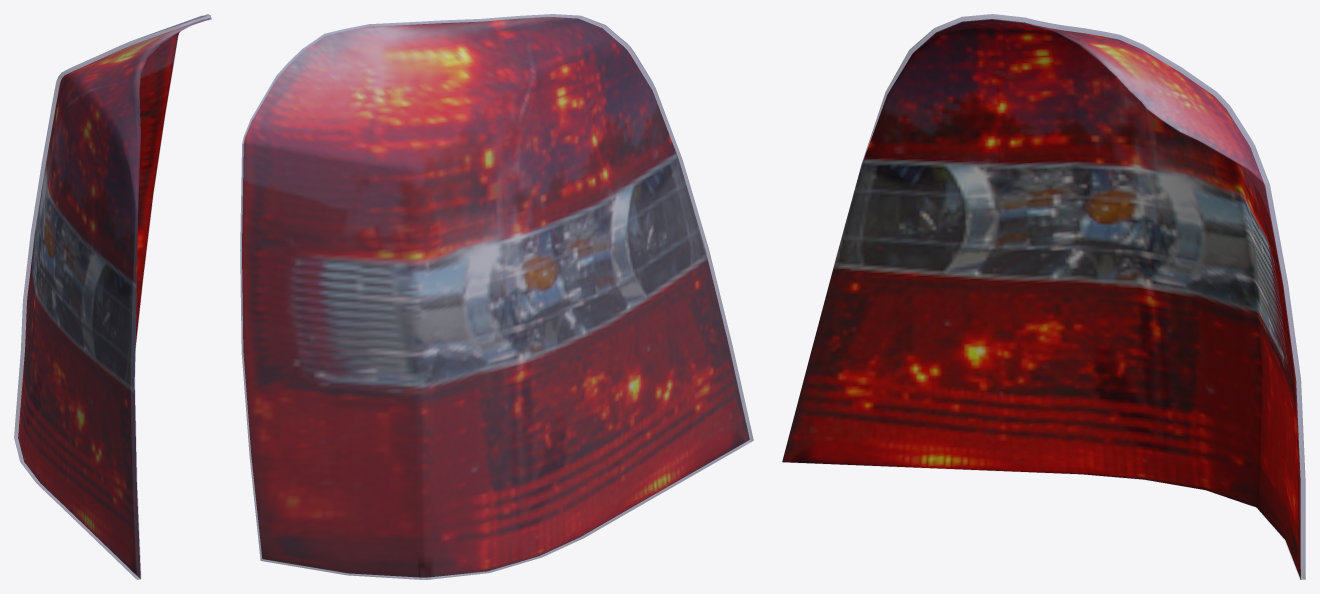
3 views of the same model, side by side, from view 1: azimuth 30°, elevation 25°; view 2: azimuth 150°, elevation 25°; view 3: azimuth 270°, elevation 25° (orthographic). The views are drawn at different scales.
Visible parts, largest first — view 1: Y651_541C_L_1_N_Y651_541C_L, Y651_541C_L_Y651_541C_L_2_DTaSI; view 2: Y651_541C_L_Y651_541C_L_2_DTaSI, Y651_541C_L_1_N_Y651_541C_L; view 3: Y651_541C_L_1_N_Y651_541C_L, Y651_541C_L_Y651_541C_L_2_DTaSI.
Part boxes in pixels (<box>): Y651_541C_L_1_N_Y651_541C_L: <box>18,18,210,578</box>; Y651_541C_L_Y651_541C_L_2_DTaSI: <box>14,14,211,579</box>; Y651_541C_L_Y651_541C_L_2_DTaSI: <box>240,14,753,579</box>; Y651_541C_L_1_N_Y651_541C_L: <box>242,17,749,577</box>; Y651_541C_L_1_N_Y651_541C_L: <box>782,19,1300,579</box>; Y651_541C_L_Y651_541C_L_2_DTaSI: <box>782,14,1305,579</box>.
Bounding box in the file's own units: 22.41 × 37.13 × 34.84.
